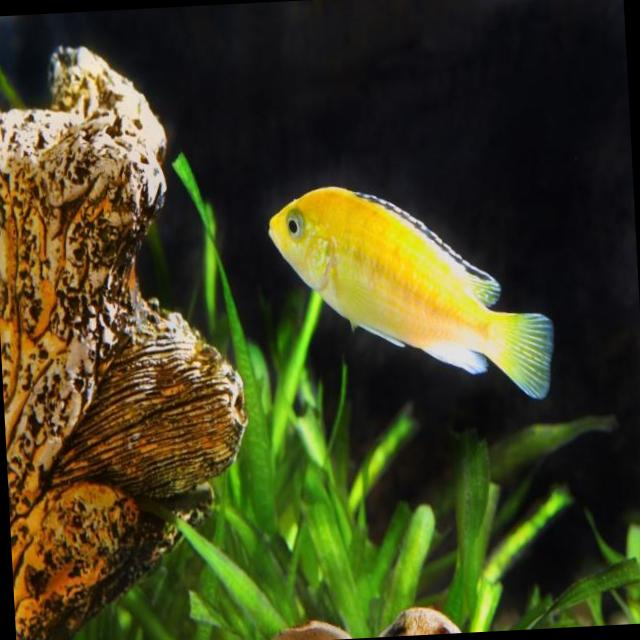YellowCichlid: (264, 172, 555, 415)
